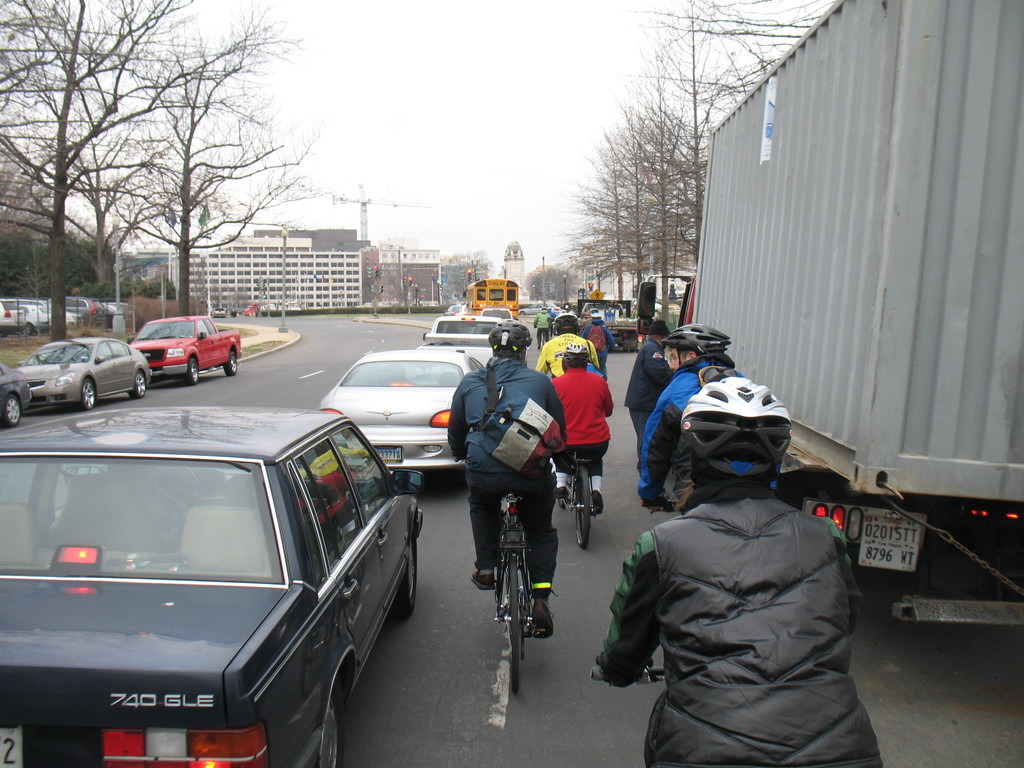Car: (12, 403, 417, 759), (317, 347, 485, 488), (14, 334, 151, 410), (126, 314, 243, 384), (0, 297, 136, 337), (415, 311, 504, 372), (0, 360, 31, 426), (480, 305, 516, 321), (518, 301, 560, 314), (442, 302, 461, 316), (231, 306, 244, 320), (211, 306, 224, 317), (245, 305, 255, 316), (460, 303, 467, 315)
